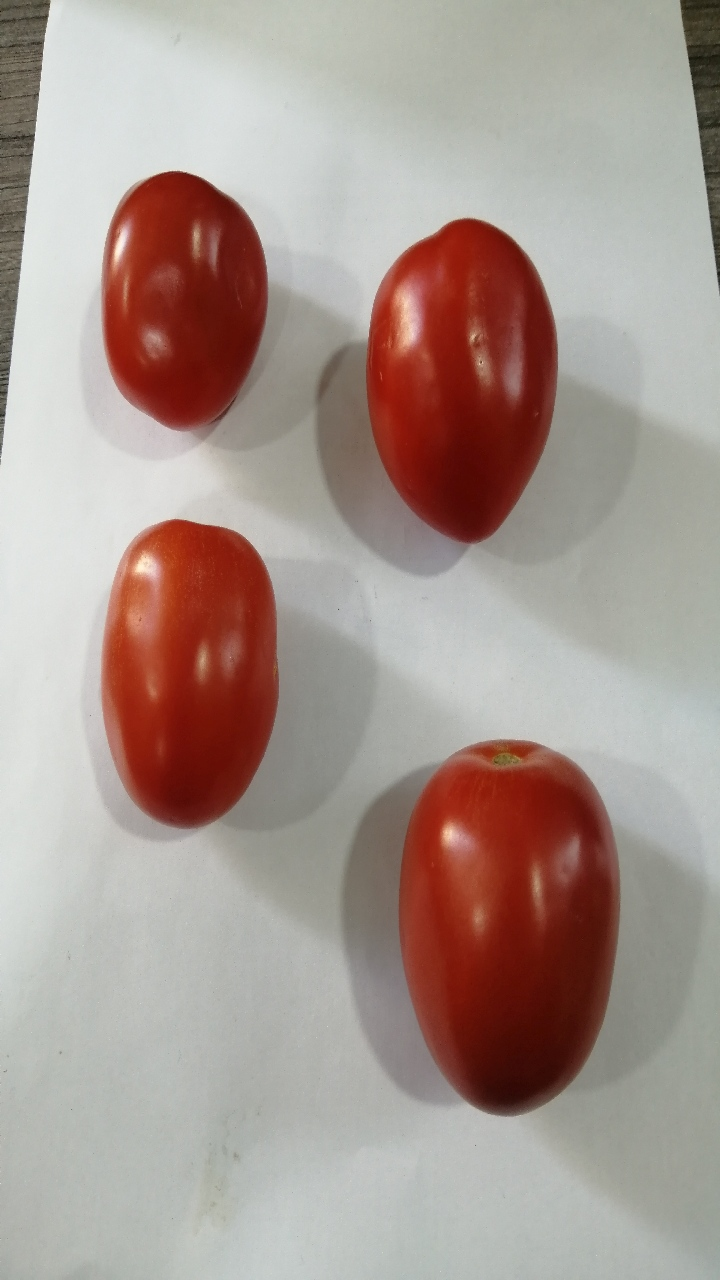tomateRojo: (380, 719, 638, 1140), (343, 189, 574, 580), (80, 503, 294, 851), (74, 145, 280, 455)
